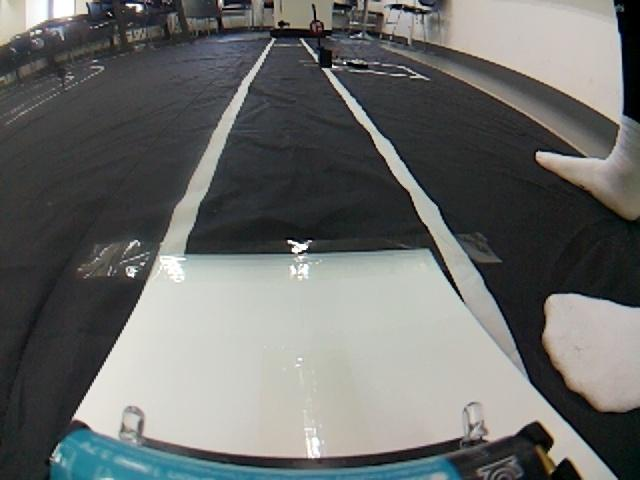hill_down: (7, 242, 640, 478)
